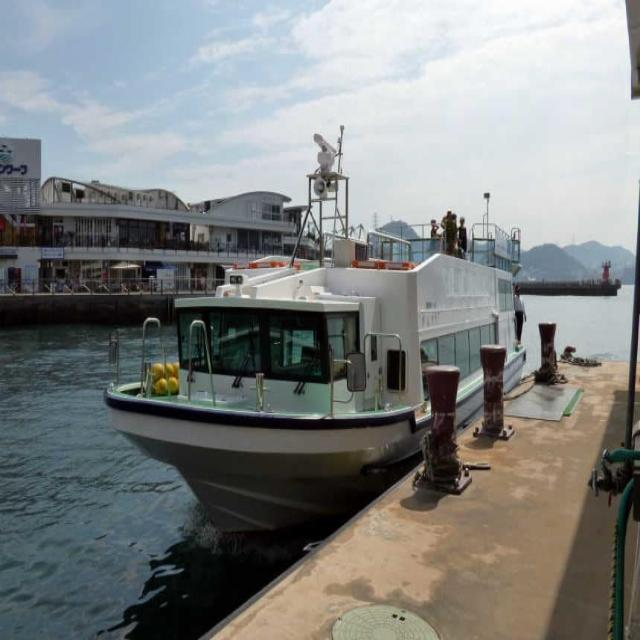houseboat: (102, 178, 532, 506)
